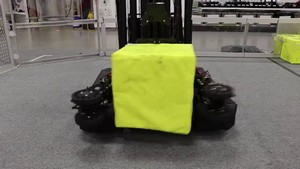cube: (111, 42, 197, 137)
